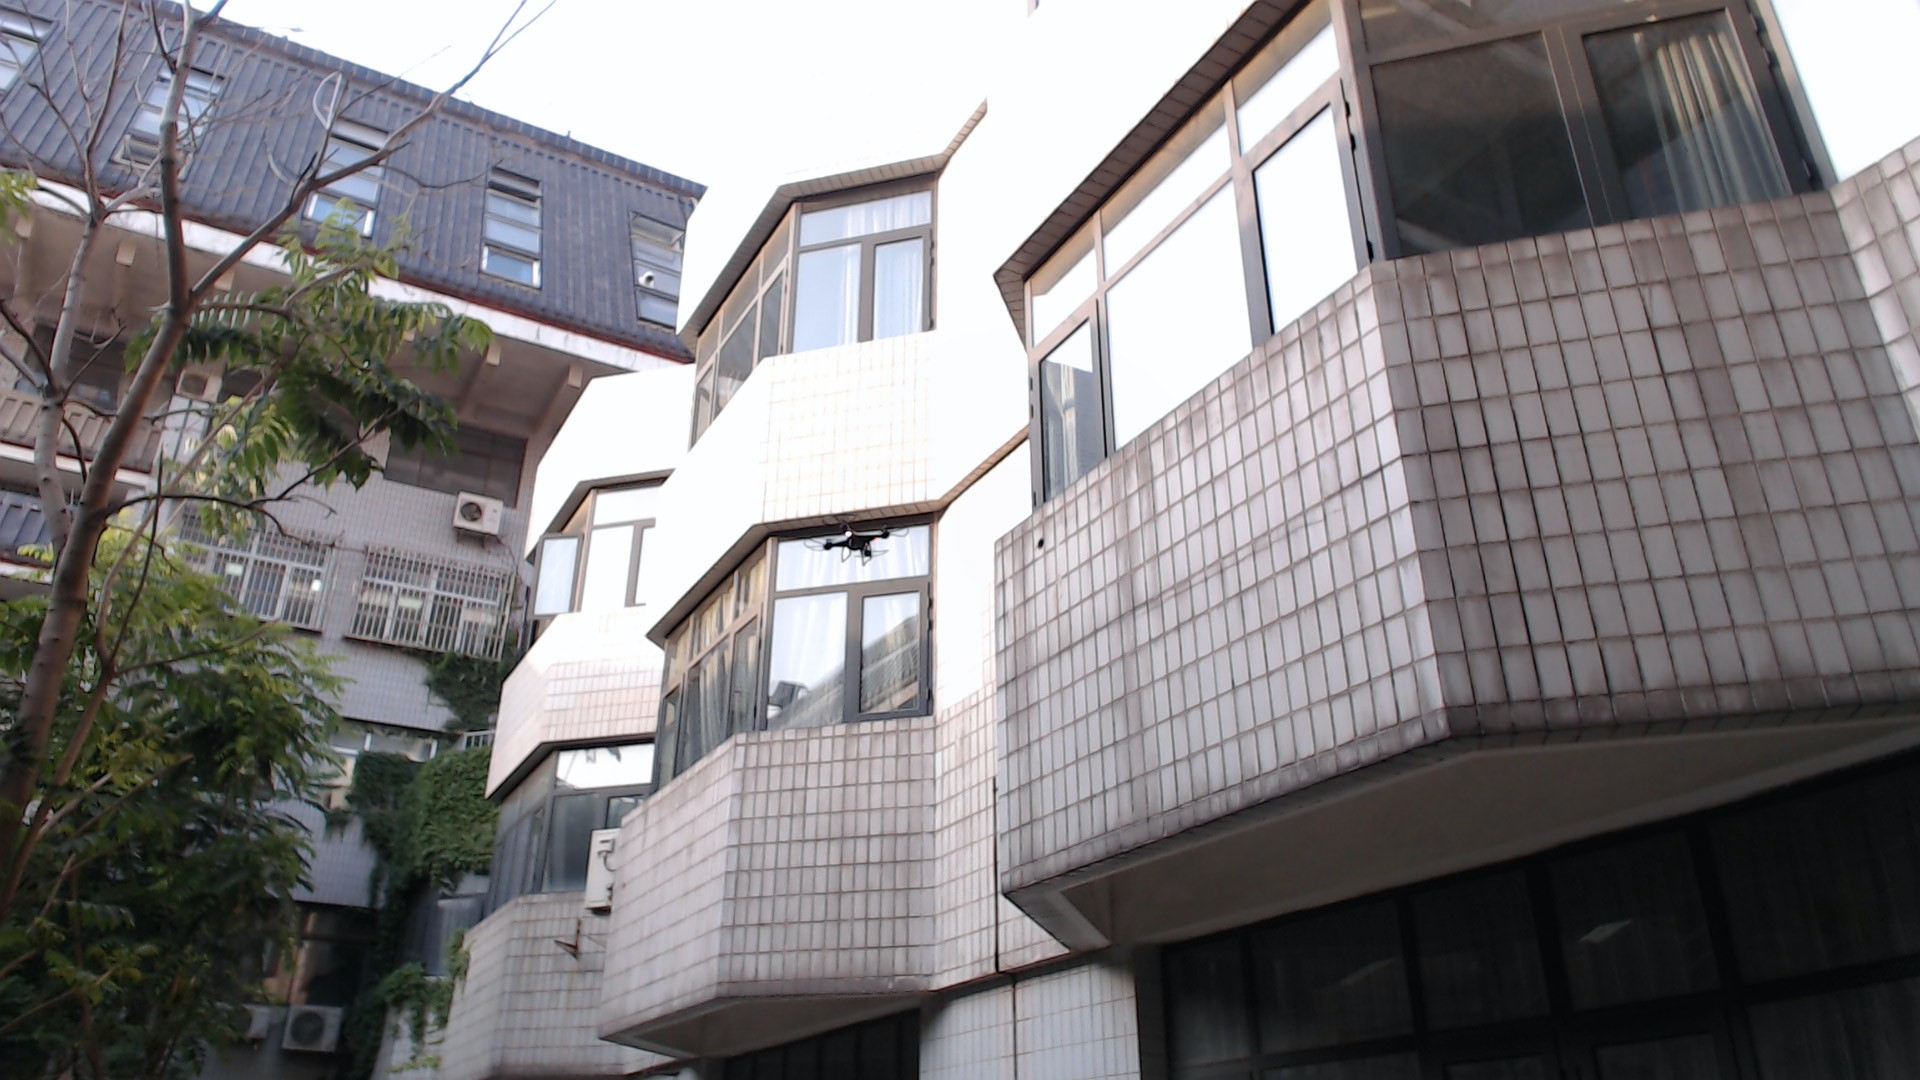drone: (790, 488, 939, 584)
